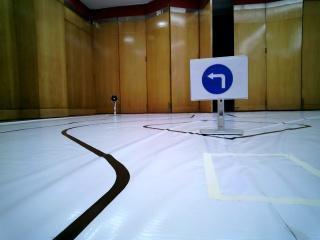left: (193, 63, 240, 94)
